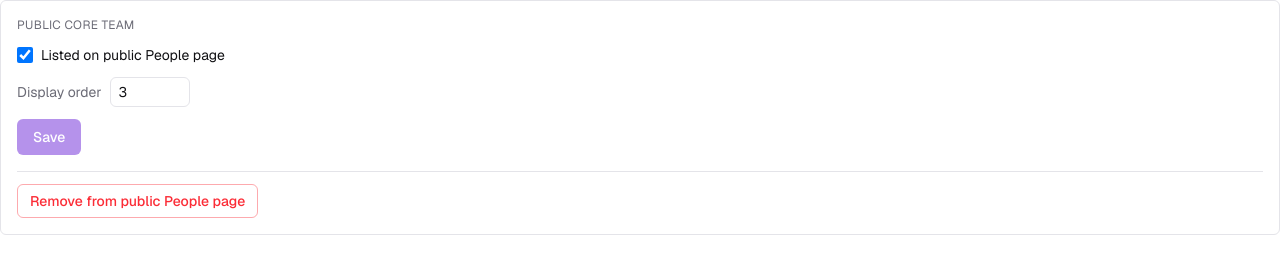
Test: PublicTeamMembership — direct Remove action › on confirm, sends {listed:false} and updates the UI to unlisted
This screenshot has width=1280, height=280.
What coordinates should you click on to do the following:
click the button "Remove from public People page"
I would click on:
 (138, 201)
Its box is [17,184,258,218].
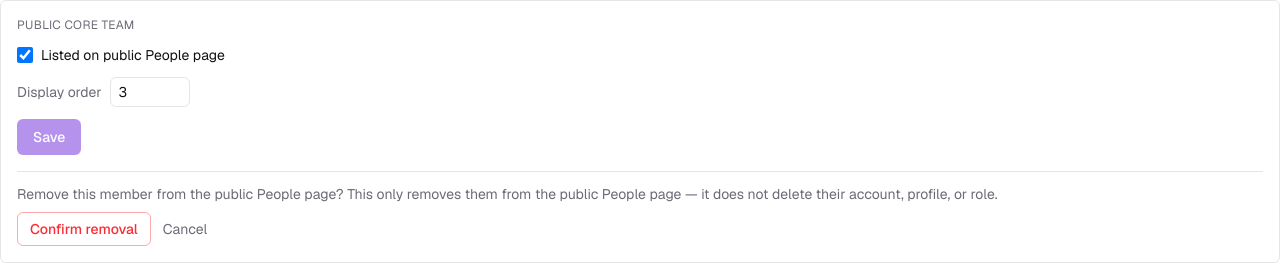
What coordinates should you click on to do the following:
click the button "Confirm removal"
I would click on:
 (84, 229)
Its box is [17,212,151,246].
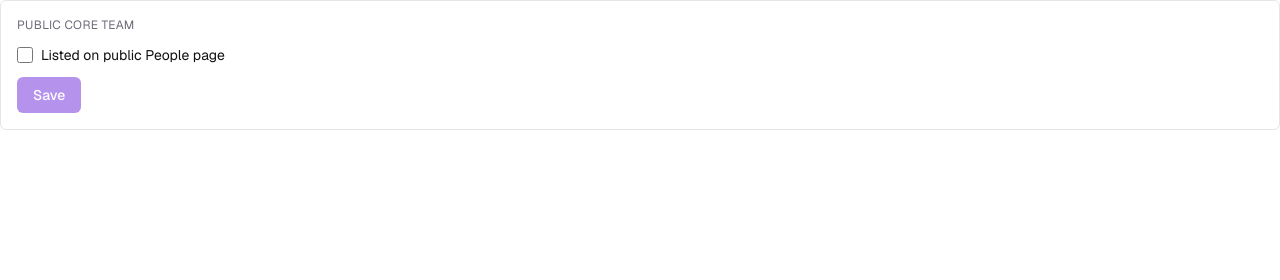
Expected: the button "Remove from public People page" is not shown
Expected: the checkbox is not checked, [17,47,33,63]
Expected: the label labelled "Display order" is gone
